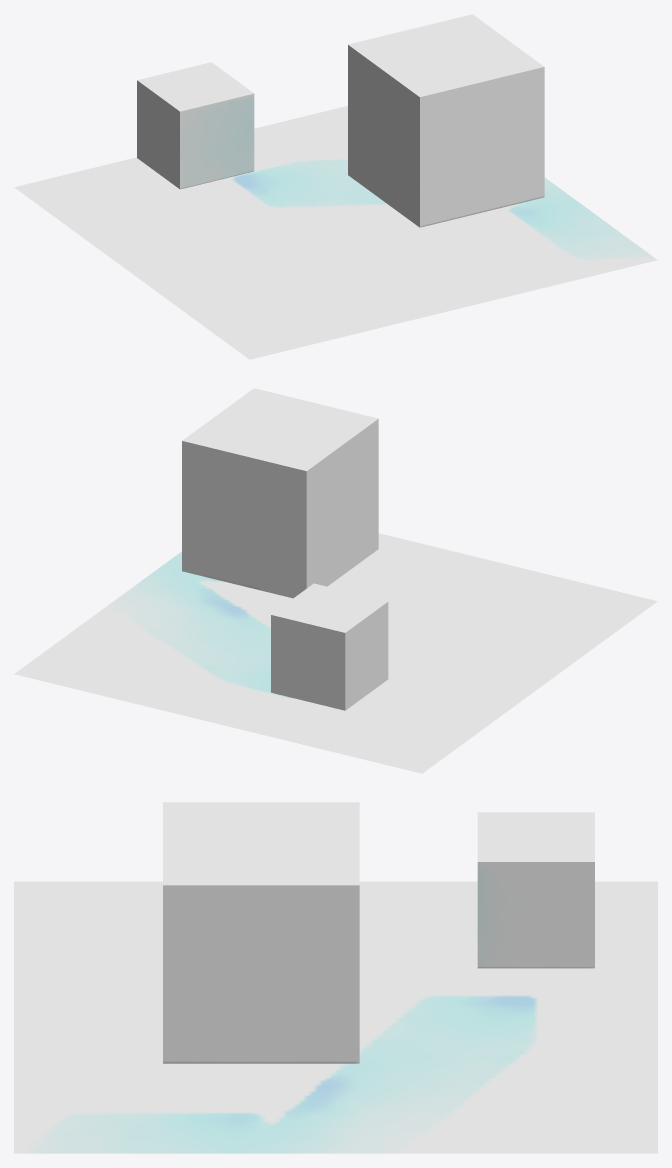
Rendered from tes-light-mapper.glb.
3 renders of one model, top to bottom at view 1: azimuth 30°, elevation 25°; view 2: azimuth 150°, elevation 25°; view 3: azimuth 270°, elevation 25°, orthographic. The views are drawn at different scales.
Visible parts, largest first — view 1: Plane, Cube, Cube.001; view 2: Plane, Cube, Cube.001; view 3: Plane, Cube, Cube.001.
Boxes of the visible parts, x1=… form: Plane: x1=14, y1=106, x2=657, y2=359; Cube: x1=348, y1=14, x2=544, y2=227; Cube.001: x1=137, y1=62, x2=254, y2=189; Plane: x1=14, y1=533, x2=657, y2=773; Cube: x1=182, y1=388, x2=378, y2=598; Cube.001: x1=271, y1=583, x2=388, y2=710; Plane: x1=14, y1=881, x2=657, y2=1153; Cube: x1=163, y1=802, x2=359, y2=1063; Cube.001: x1=477, y1=812, x2=594, y2=968.
Bounding box in the file's own units: 6.55 × 2.57 × 6.55.
Materials: 3 (3 with a texture image).
